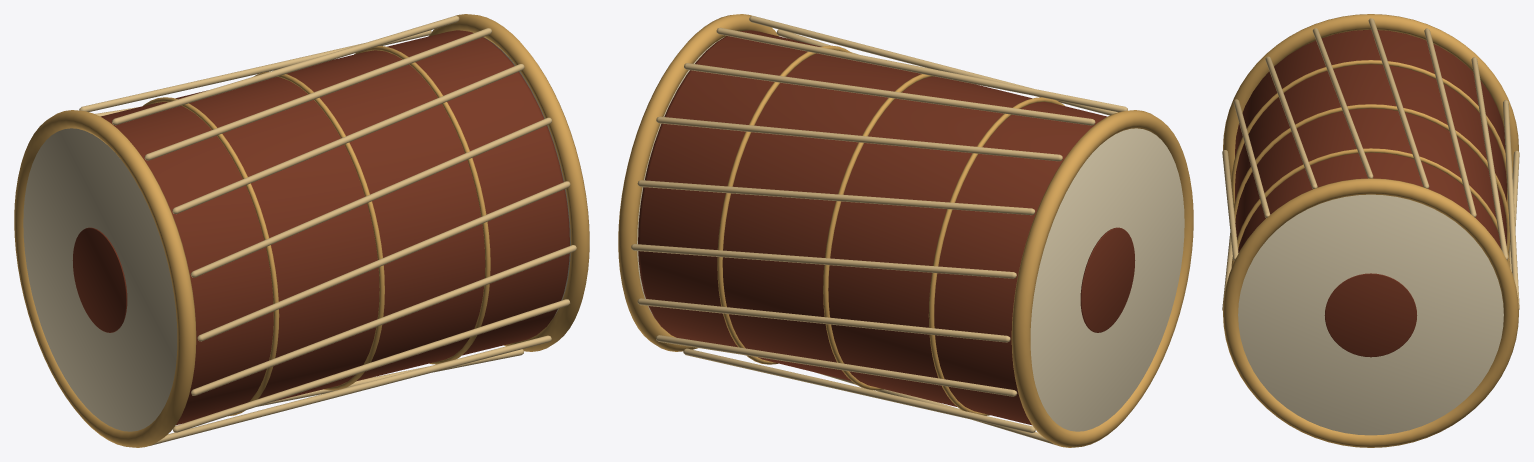
File: divi-dhol.glb
3 views of the same model, side by side, from view 1: azimuth 30°, elevation 25°; view 2: azimuth 150°, elevation 25°; view 3: azimuth 270°, elevation 25° (orthographic). The views are drawn at different scales.
Visible parts, largest first — view 1: Dhol rosewood barrel, Stretched drum head, Torus, Torus.001, Tuning centre, Hand-tied lacing.010, Hand-tied lacing.011, Hand-tied lacing.009, Hand-tied lacing.012, Hand-tied lacing.013, Hand-tied lacing.014, Hand-tied lacing.015 (+6 smaller); view 2: Dhol rosewood barrel, Stretched drum head, Torus, Torus.001, Tuning centre, Hand-tied lacing.015, Hand-tied lacing, Hand-tied lacing.001, Hand-tied lacing.002, Hand-tied lacing.003, Hand-tied lacing.004, Hand-tied lacing.005 (+6 smaller); view 3: Stretched drum head.001, Dhol rosewood barrel, Torus.001, Tuning centre.001, Torus, Torus.002, Torus.003, Torus.004, Hand-tied lacing.002, Hand-tied lacing.001, Hand-tied lacing.003, Hand-tied lacing (+5 smaller).
Part boxes in pixels (box(x1,y1,x2,y2)): Dhol rosewood barrel: box(100, 30, 569, 425); Stretched drum head: box(23, 128, 177, 431); Torus: box(14, 110, 196, 447); Torus.001: box(428, 14, 589, 351); Tuning centre: box(72, 227, 127, 332); Hand-tied lacing.010: box(172, 299, 570, 432); Hand-tied lacing.011: box(191, 245, 576, 395); Hand-tied lacing.009: box(149, 335, 551, 445); Hand-tied lacing.012: box(197, 181, 570, 341); Hand-tied lacing.013: box(190, 117, 551, 277); Hand-tied lacing.014: box(172, 64, 524, 214); Hand-tied lacing.015: box(144, 28, 491, 160); Dhol rosewood barrel: box(638, 30, 1107, 425); Stretched drum head: box(1030, 128, 1184, 431); Torus: box(1011, 110, 1193, 447); Torus.001: box(618, 14, 779, 351); Tuning centre: box(1080, 227, 1135, 332); Hand-tied lacing.015: box(716, 27, 1127, 112); Hand-tied lacing: box(684, 63, 1095, 125); Hand-tied lacing.001: box(656, 116, 1062, 161); Hand-tied lacing.002: box(637, 180, 1035, 215); Hand-tied lacing.003: box(631, 244, 1016, 278); Hand-tied lacing.004: box(637, 298, 1010, 342); Hand-tied lacing.005: box(656, 335, 1017, 396); Stretched drum head.001: box(1238, 194, 1503, 435); Dhol rosewood barrel: box(1235, 29, 1506, 252); Torus.001: box(1223, 178, 1518, 447); Tuning centre.001: box(1324, 273, 1417, 357); Torus: box(1223, 14, 1518, 181); Torus.002: box(1231, 60, 1508, 208); Torus.003: box(1233, 104, 1510, 252); Torus.004: box(1231, 148, 1510, 267); Hand-tied lacing.002: box(1471, 57, 1508, 259); Hand-tied lacing.001: box(1424, 28, 1476, 217); Hand-tied lacing.003: box(1503, 100, 1519, 309); Hand-tied lacing: box(1368, 18, 1429, 188).
Size of the model in its own units: 1.66 by 1.22 by 1.22.
